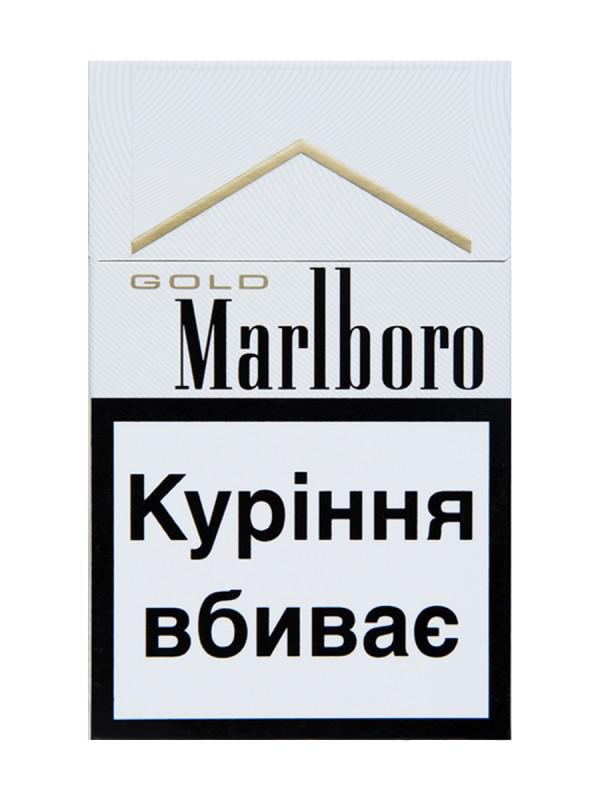marlboro_gold: (90, 65, 508, 740)
